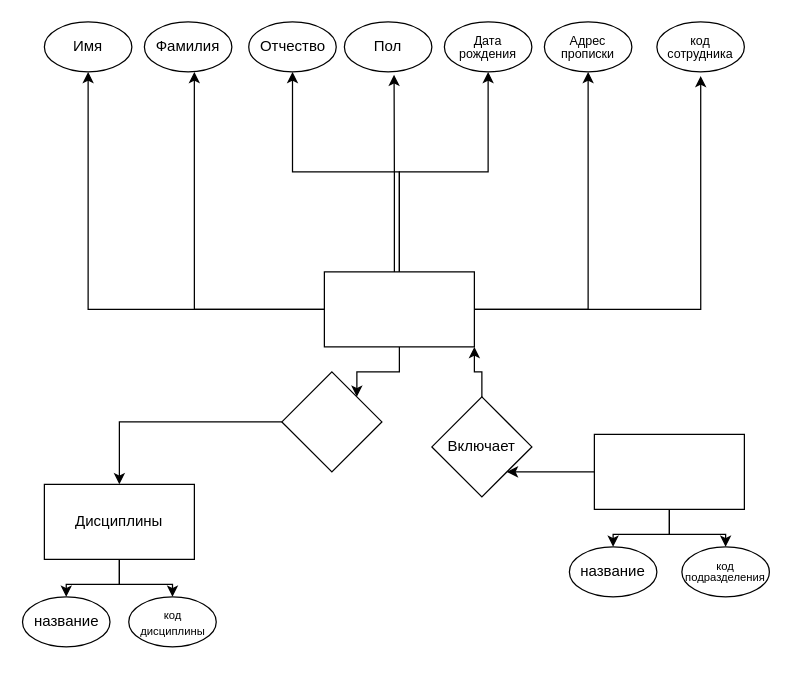
Image size: 791x675. Some labels were removed from this diagram. Here are the shapes that lost their labels. From the top down, the centre of each, then its label:
At point (398, 309): "Сотрудники".
At point (331, 421): "Читает".
At point (668, 471): "Подразделения".
